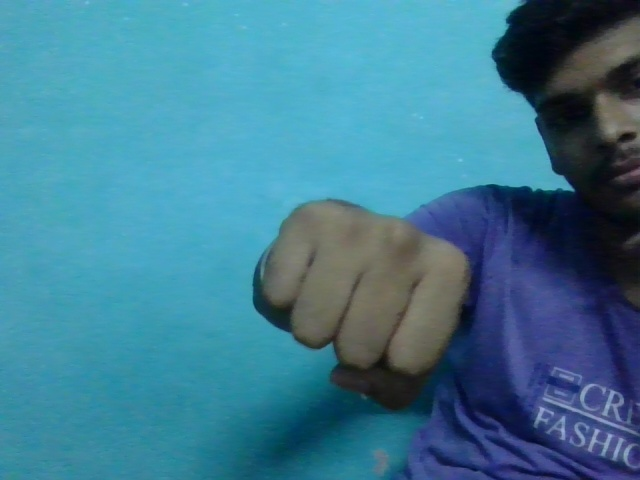yes: (248, 196, 474, 404)
